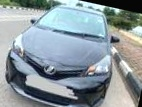car: (0, 0, 127, 107)
